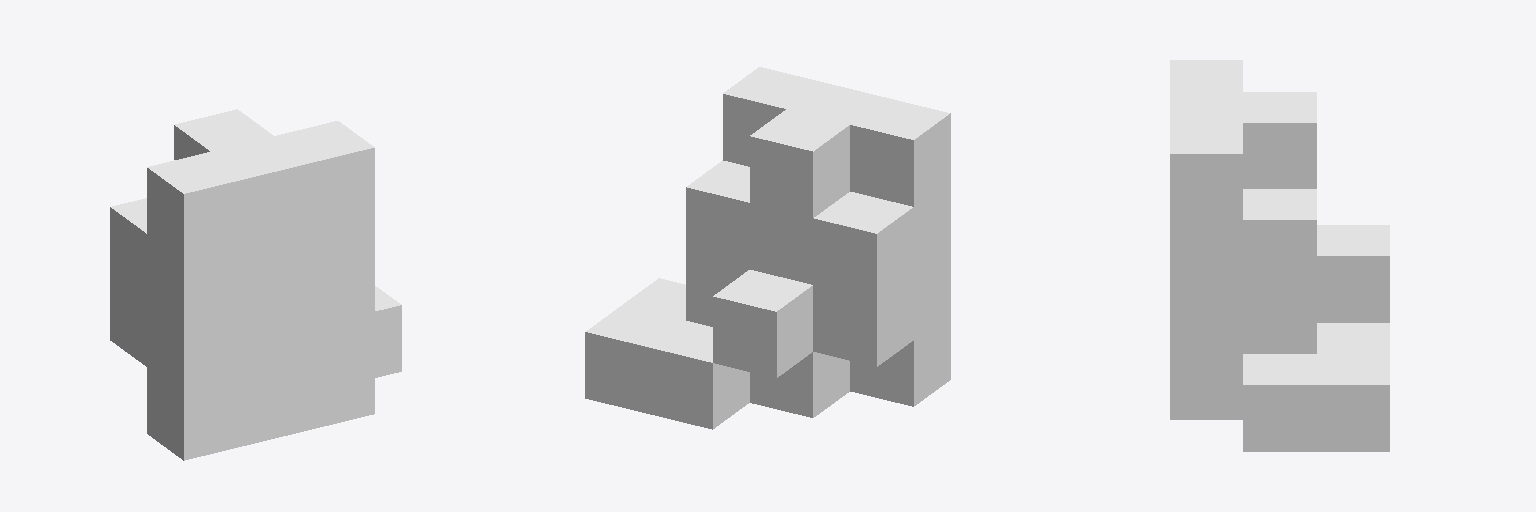
File: Bunny-Bit-1-(White).obj
3 views of the same model, side by side, from view 1: azimuth 30°, elevation 25°; view 2: azimuth 150°, elevation 25°; view 3: azimuth 270°, elevation 25° (orthographic).
Visible parts, largest first — view 1: object 1; view 2: object 1; view 3: object 1.
Boxes of the visible parts, x1=… form: object 1: x1=110, y1=109, x2=401, y2=460; object 1: x1=585, y1=67, x2=950, y2=429; object 1: x1=1170, y1=60, x2=1389, y2=451.
Size of the model in its own units: 0.4 by 0.4 by 0.3.